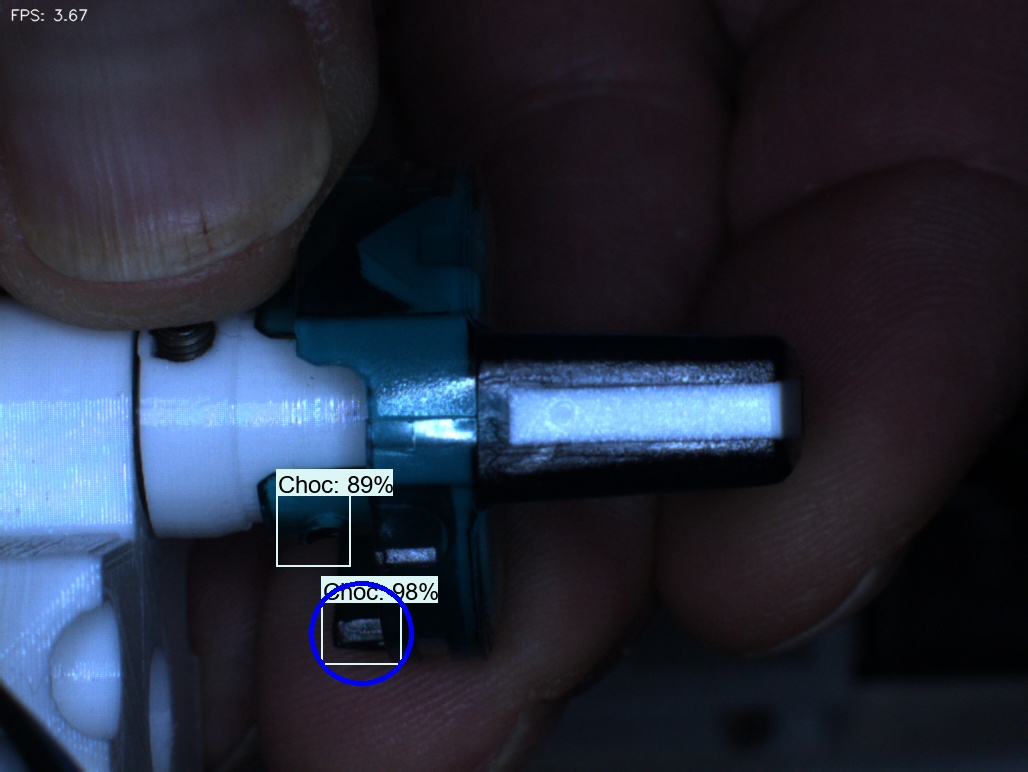DentOk: (330, 198, 412, 309)
